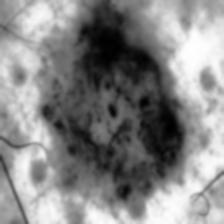Potentially Malignant Skin Tumors: (42, 3, 187, 211)
